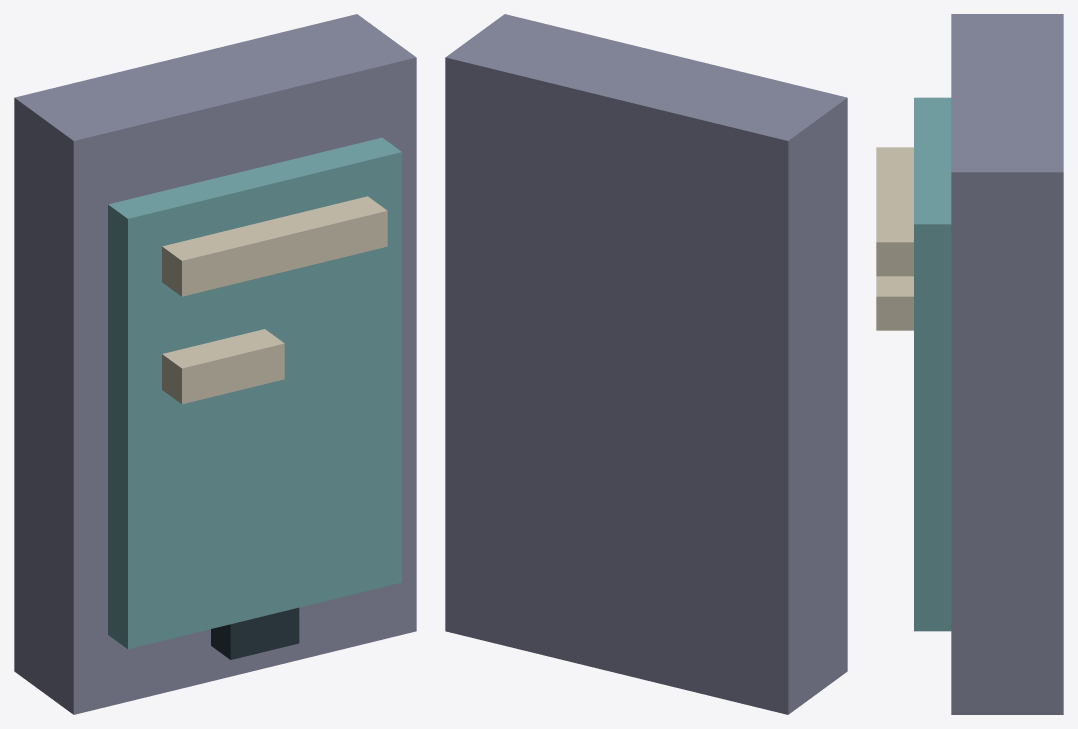
The model's file is mathematics-17.glb.
3 renders of one model, left to right at view 1: azimuth 30°, elevation 25°; view 2: azimuth 150°, elevation 25°; view 3: azimuth 270°, elevation 25°, orthographic. The views are drawn at different scales.
Visible parts, largest first — view 1: Statistics tablet; view 2: Statistics tablet; view 3: Statistics tablet.
Part boxes in pixels (<box>): Statistics tablet: <box>14,14,416,714</box>; Statistics tablet: <box>445,14,847,714</box>; Statistics tablet: <box>876,14,1063,714</box>.
Size of the model in its own units: 0.8 by 1.28 by 0.4.
